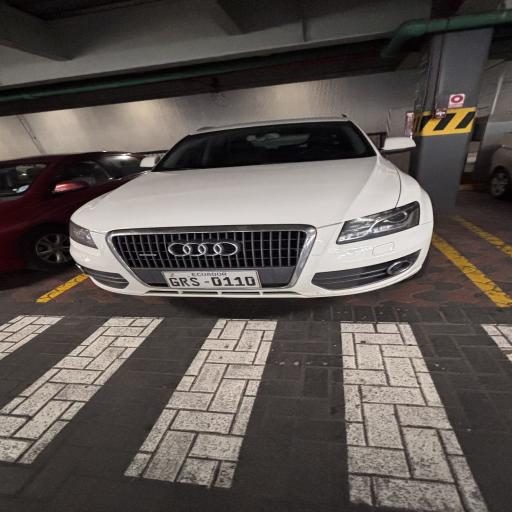license_plate: (163, 270, 260, 290)
